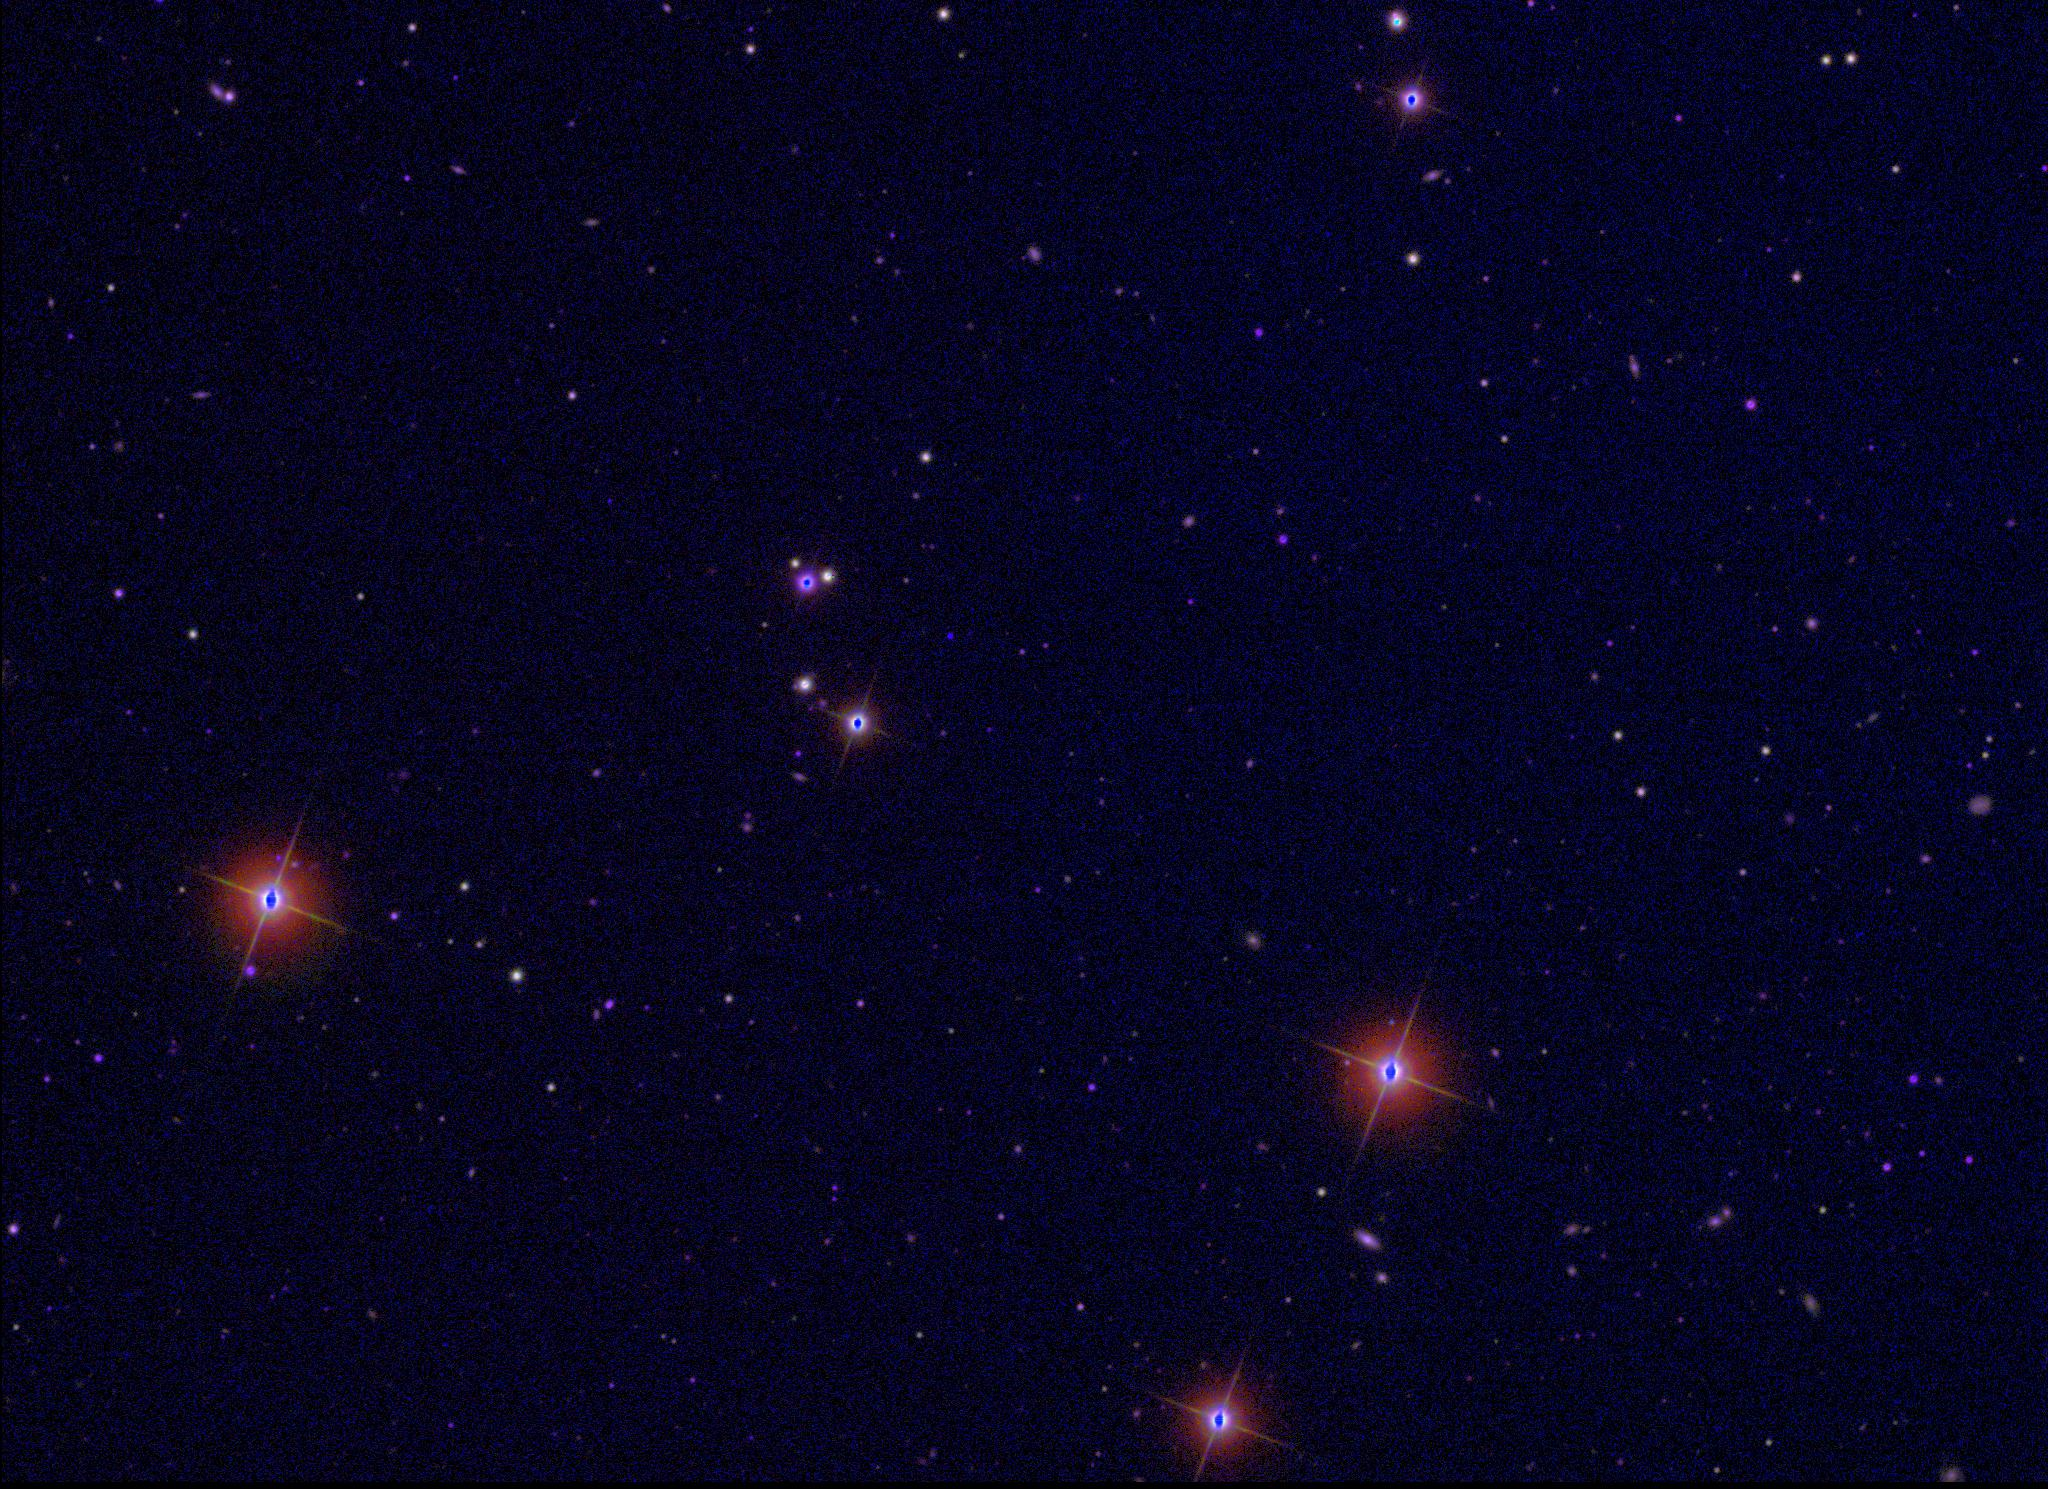L: (943, 628, 957, 643)
